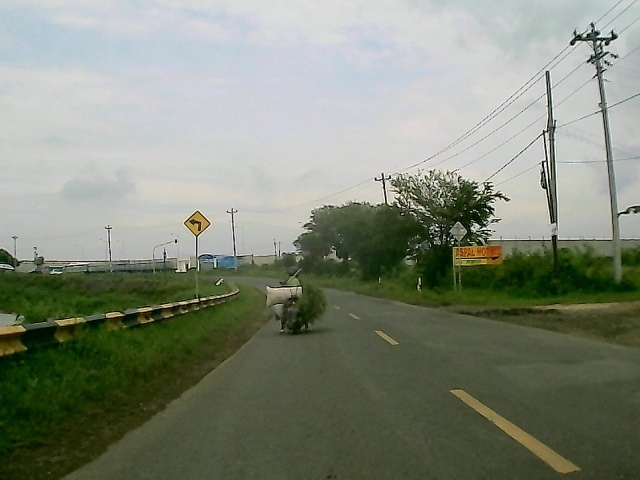Tikungan tajam ke kiri: (182, 209, 211, 239)
